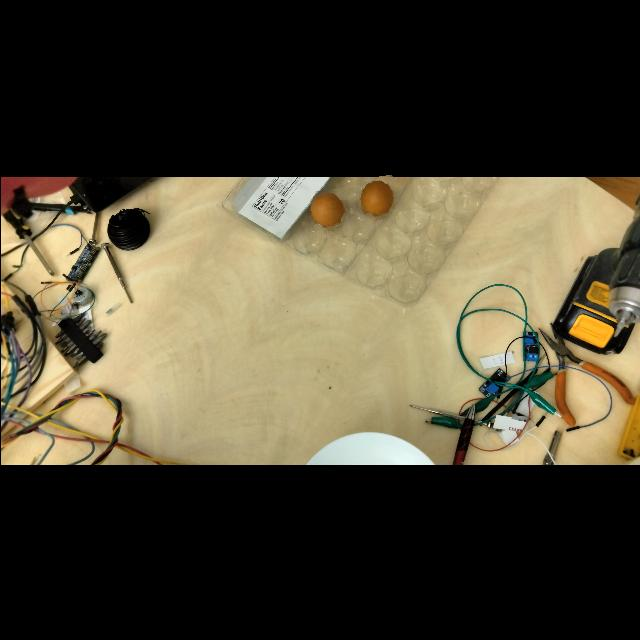Egg: (306, 188, 348, 230), (356, 175, 396, 219)
